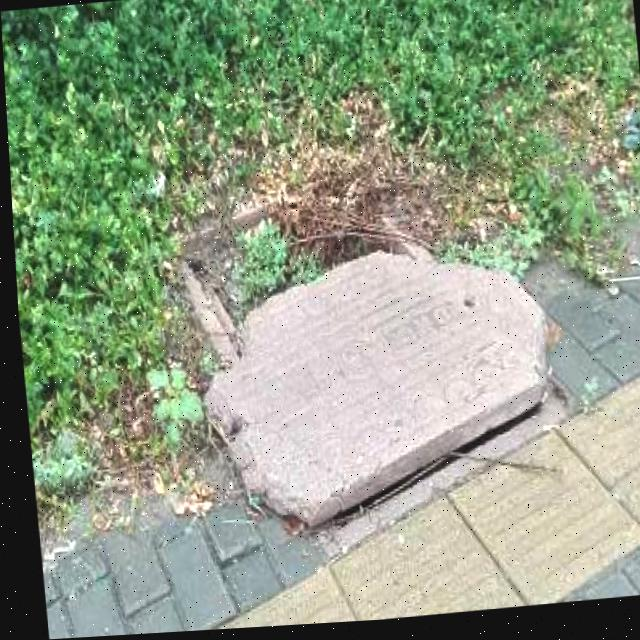manhole: (154, 168, 568, 524)
